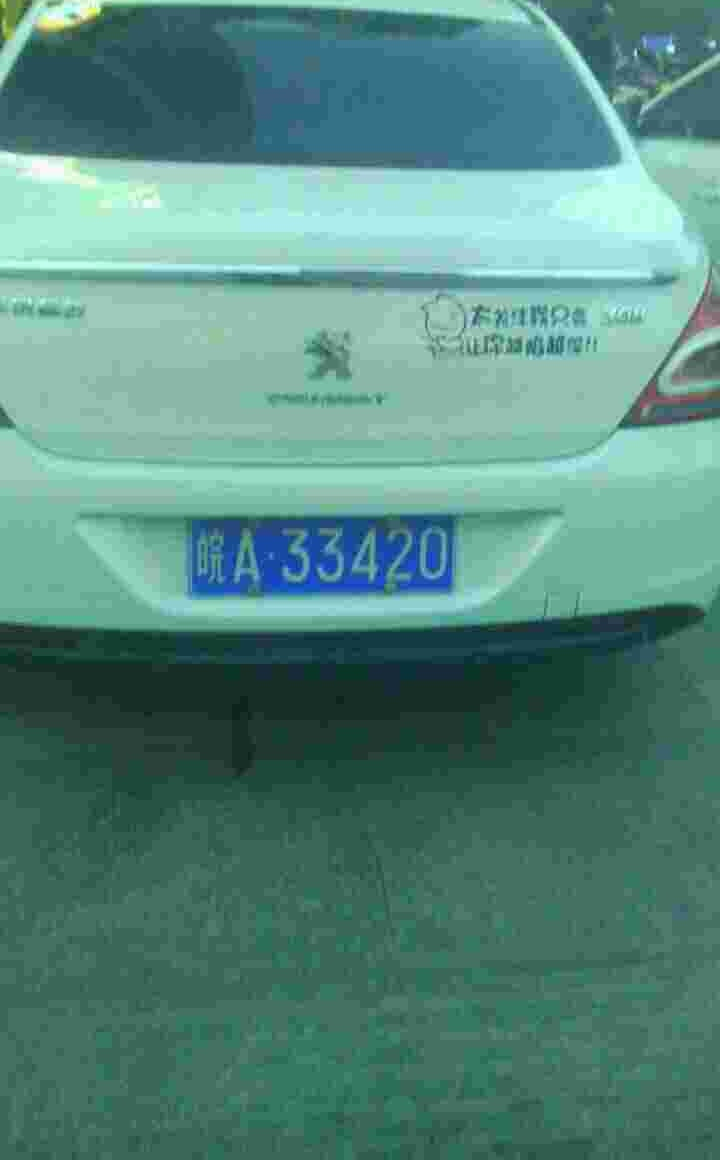license_plate: (187, 515, 461, 603)
